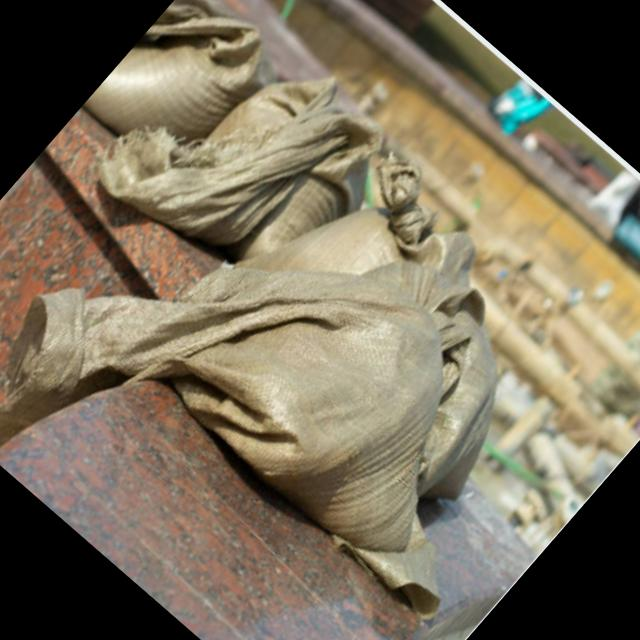KantongSemen: (0, 105, 533, 640), (144, 38, 408, 310)
